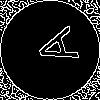A: (25, 25, 79, 71)
